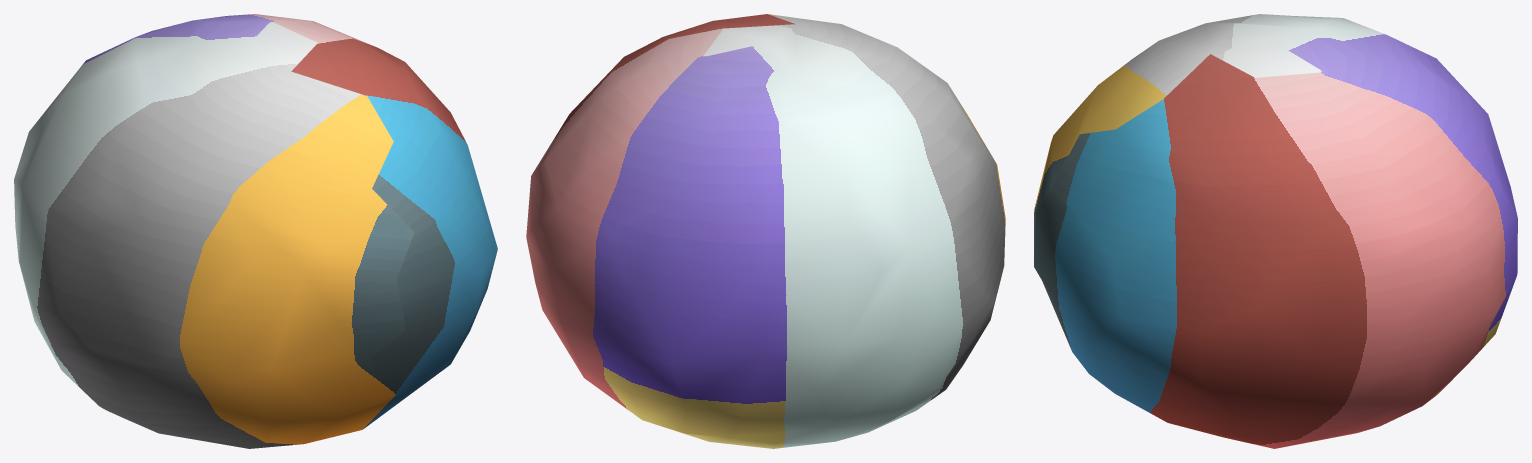
Rendered from Prop_SnowmanBodyMedium.glb.
3 renders of one model, left to right at view 1: azimuth 30°, elevation 25°; view 2: azimuth 150°, elevation 25°; view 3: azimuth 270°, elevation 25°, orthographic.
Parts seen in each view (by area): view 1: Prop_SnowmanBodyMedium; view 2: Prop_SnowmanBodyMedium; view 3: Prop_SnowmanBodyMedium.
Boxes of the visible parts, x1,y1,x2,y2 form: Prop_SnowmanBodyMedium: (14,14,497,448); Prop_SnowmanBodyMedium: (526,14,1005,448); Prop_SnowmanBodyMedium: (1034,14,1517,448).
Bounding box in the file's own units: 0.6111 × 0.5354 × 0.6287.
Materials: 1 (1 with a texture image).
